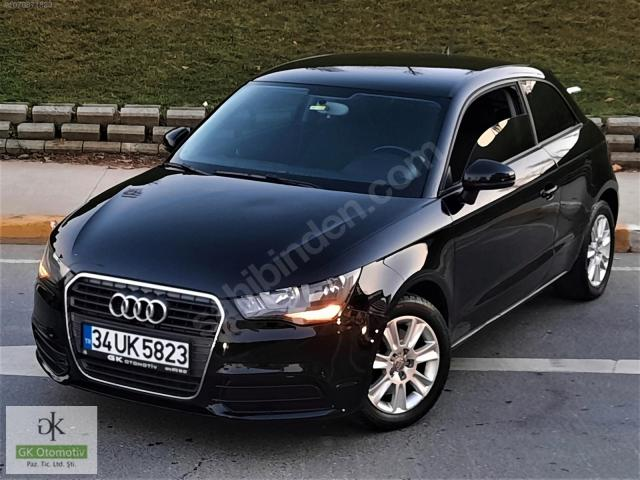plaka: (81, 323, 190, 373)
